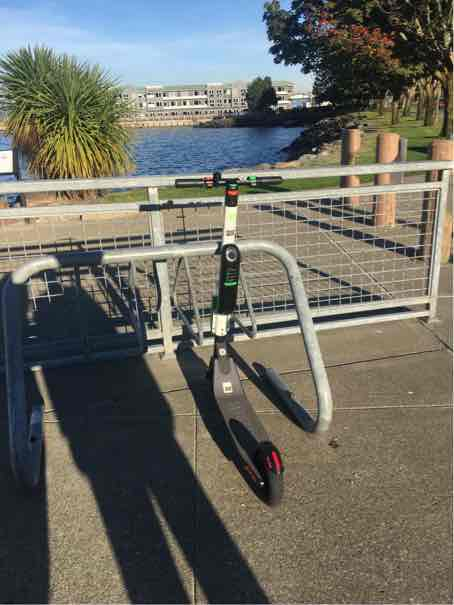scooter: (163, 167, 291, 511)
